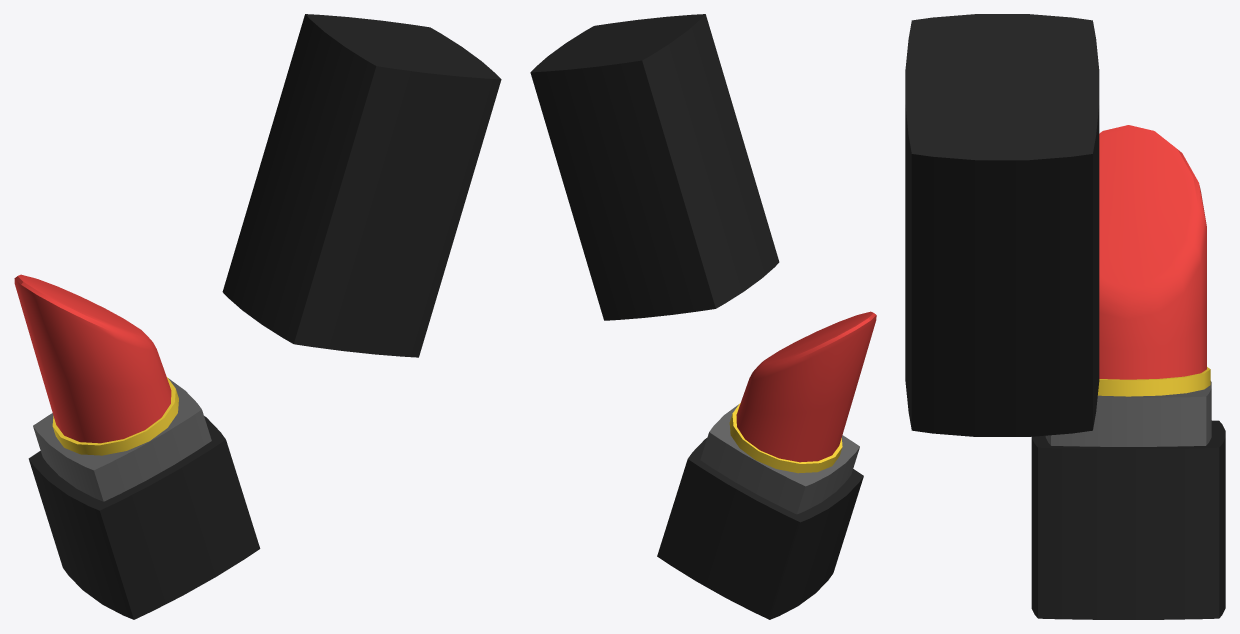
Rendered from lipstick.fbx.
3 views of the same model, side by side, from view 1: azimuth 30°, elevation 25°; view 2: azimuth 150°, elevation 25°; view 3: azimuth 270°, elevation 25° (orthographic). The views are drawn at different scales.
Parts seen in each view (by area): view 1: Cube.6126; view 2: Cube.6126; view 3: Cube.6126.
Part boxes in pixels (bbox=[...]): Cube.6126: bbox=[14, 14, 501, 619]; Cube.6126: bbox=[530, 14, 876, 619]; Cube.6126: bbox=[905, 14, 1225, 619].
Bounding box in the file's own units: 162 × 211 × 88.06.
1 material, 1 textured.
